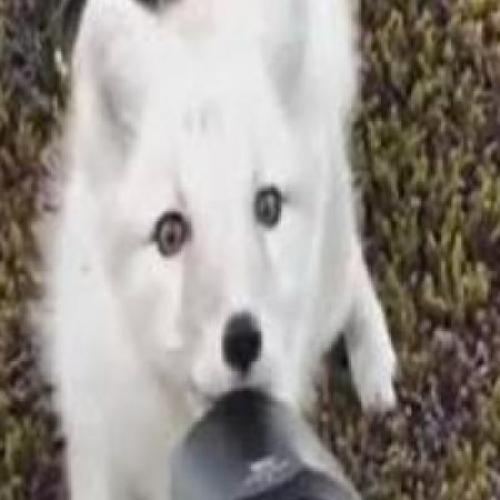arctic_fox-endangered: (39, 0, 399, 496)
